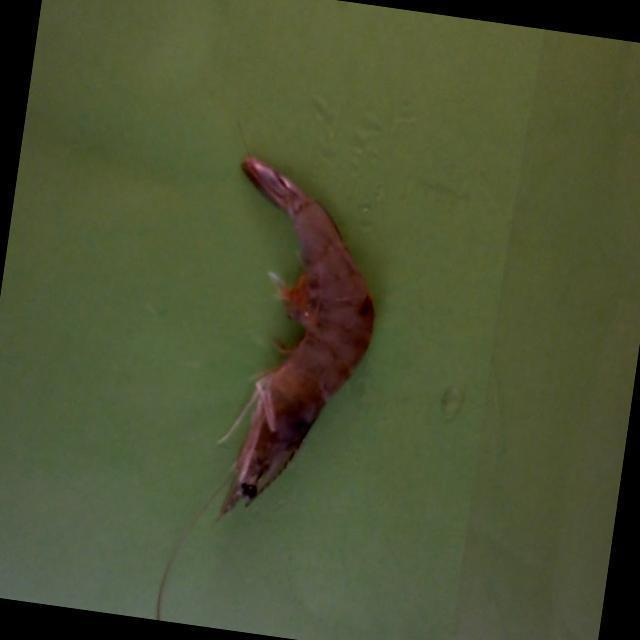shrimp: (220, 154, 374, 517)
